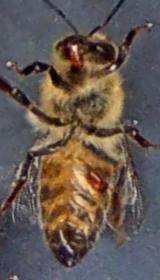varroa_mite: (74, 155, 116, 197)
